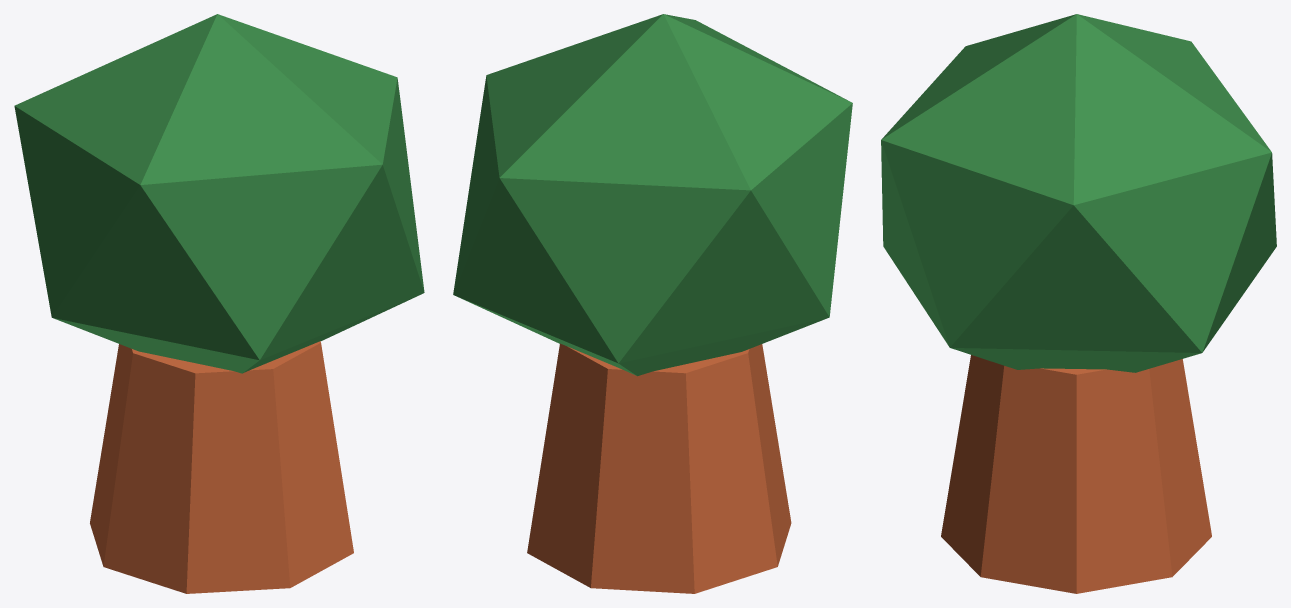
Rendered from hydro_basil_pot.glb.
3 views of the same model, side by side, from view 1: azimuth 30°, elevation 25°; view 2: azimuth 150°, elevation 25°; view 3: azimuth 270°, elevation 25° (orthographic).
Visible parts, largest first — view 1: basil_pot; view 2: basil_pot; view 3: basil_pot.
Part boxes in pixels (<box>): basil_pot: <box>14,14,424,593</box>; basil_pot: <box>453,14,852,593</box>; basil_pot: <box>881,14,1276,593</box>.
Bounding box in the file's own units: 0.3489 × 0.5082 × 0.3503.
